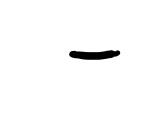minus: (68, 49, 120, 60)
